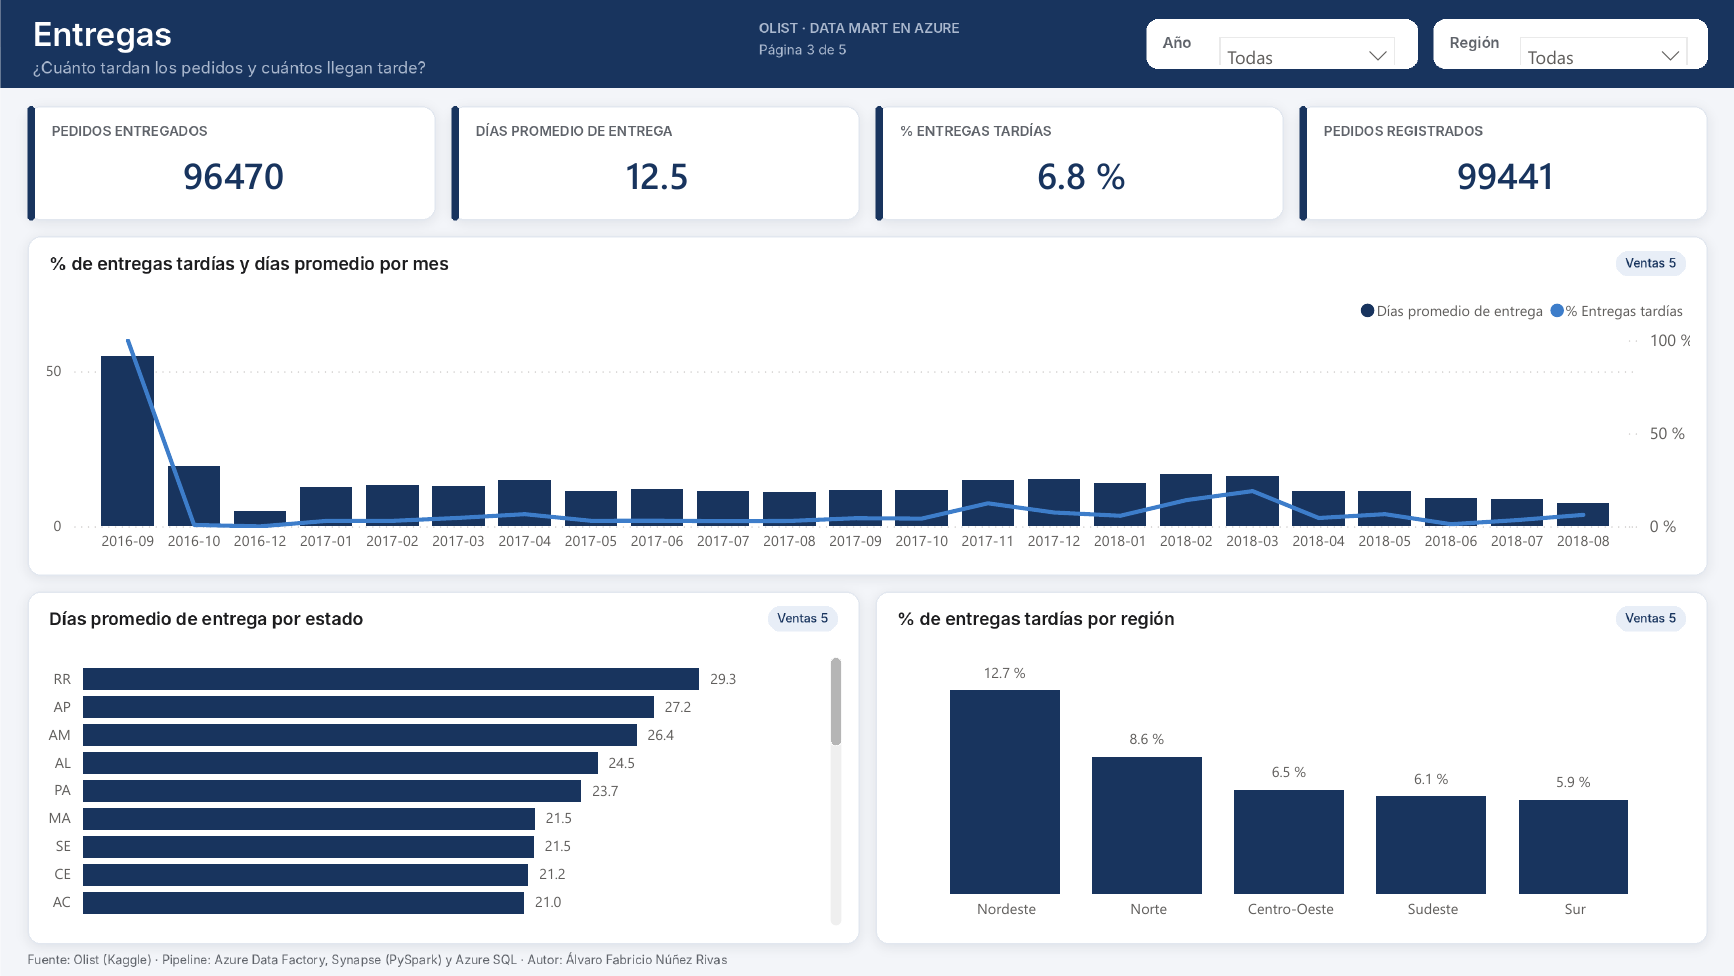

Layout of this report page (visuals, bound fields, positions):
{"tool":"powerbi","page":{"name":"Entregas","canvas":[1280,720],"ordinal":2},"visuals":[{"type":"slicer","fields":{"Values":["dim_fecha.anio"]},"box":[890,17,150,30],"z":0},{"type":"slicer","fields":{"Values":["dim_ubicacion.region"]},"box":[1112,17,144,30],"z":1},{"type":"card","fields":{"Values":["_Medidas.Pedidos entregados"]},"box":[28,100,289,60],"z":2},{"type":"card","fields":{"Values":["_Medidas.Días promedio de entrega"]},"box":[341,100,289,60],"z":3},{"type":"card","fields":{"Values":["_Medidas.% Entregas tardías"]},"box":[654,100,289,60],"z":4},{"type":"card","fields":{"Values":["_Medidas.Pedidos registrados"]},"box":[967,100,289,60],"z":5},{"type":"lineClusteredColumnComboChart","fields":{"Category":["dim_fecha.anio_mes"],"Y":["_Medidas.Días promedio de entrega"],"Y2":["_Medidas.% Entregas tardías"]},"box":[28,210,1224,206],"z":6},{"type":"clusteredBarChart","fields":{"Category":["dim_ubicacion.estado"],"Y":["_Medidas.Días promedio de entrega"]},"box":[28,472,598,216],"z":7},{"type":"clusteredColumnChart","fields":{"Category":["dim_ubicacion.region"],"Y":["_Medidas.% Entregas tardías"]},"box":[654,472,598,216],"z":8}]}

Visuals, with their boxes in screenshot pixels (x1, y1, x2, y2), scaled from the page's 1280x720 canvas onto the 1734x976 screenshot:
slicer - dim_fecha.anio: 1206/23/1409/64
slicer - dim_ubicacion.region: 1506/23/1701/64
card - _Medidas.Pedidos entregados: 38/136/429/217
card - _Medidas.Días promedio de entrega: 462/136/853/217
card - _Medidas.% Entregas tardías: 886/136/1277/217
card - _Medidas.Pedidos registrados: 1310/136/1701/217
lineClusteredColumnComboChart - dim_fecha.anio_mes x _Medidas.Días promedio de entrega: 38/285/1696/564
clusteredBarChart - dim_ubicacion.estado x _Medidas.Días promedio de entrega: 38/640/848/933
clusteredColumnChart - dim_ubicacion.region x _Medidas.% Entregas tardías: 886/640/1696/933
